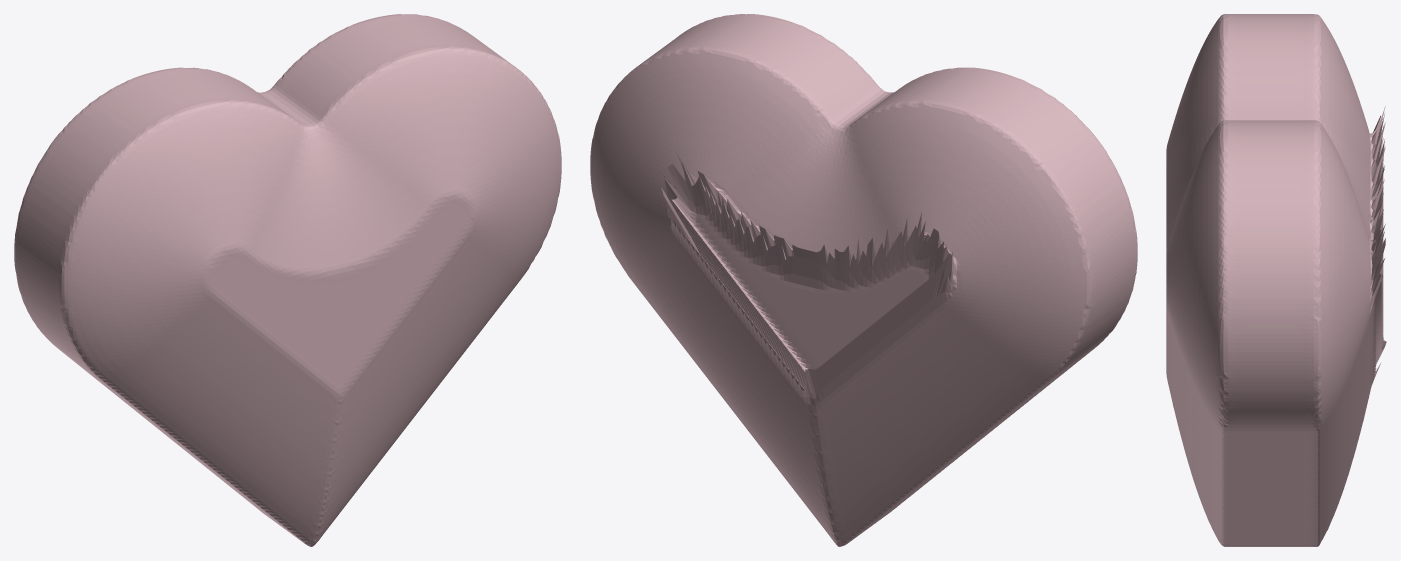
Rendered from heart.glb.
3 views of the same model, side by side, from view 1: azimuth 30°, elevation 25°; view 2: azimuth 150°, elevation 25°; view 3: azimuth 270°, elevation 25° (orthographic).
Visible parts, largest first — view 1: geometry_0; view 2: geometry_0; view 3: geometry_0.
Boxes of the visible parts, x1,y1,x2,y2 form: geometry_0: (14, 14, 561, 546); geometry_0: (590, 14, 1137, 546); geometry_0: (1166, 14, 1386, 546).
Size of the model in its own units: 0.3423 by 0.3059 by 0.1317.
